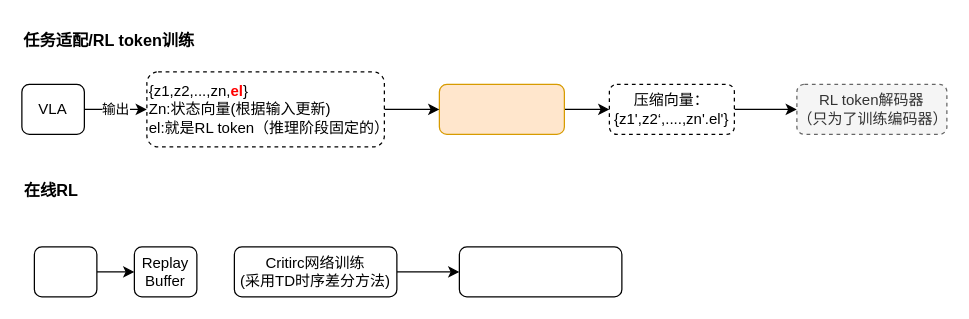
Image size: 969x319. Some labels were removed from this diagram. Each missing label, with the centre of its shape:
Critirc网络指导Actor网络更新参数: the point at 540,271
RL Token编码器g （向量压缩）: the point at 501,108
机器人交互数据: the point at 65,271
